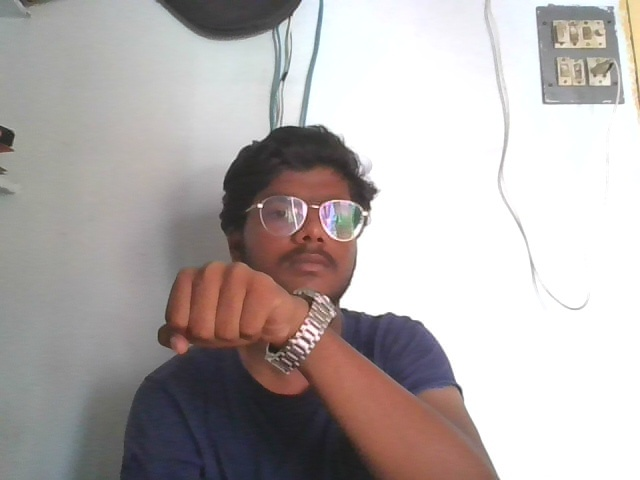Yes: (147, 254, 312, 360)
